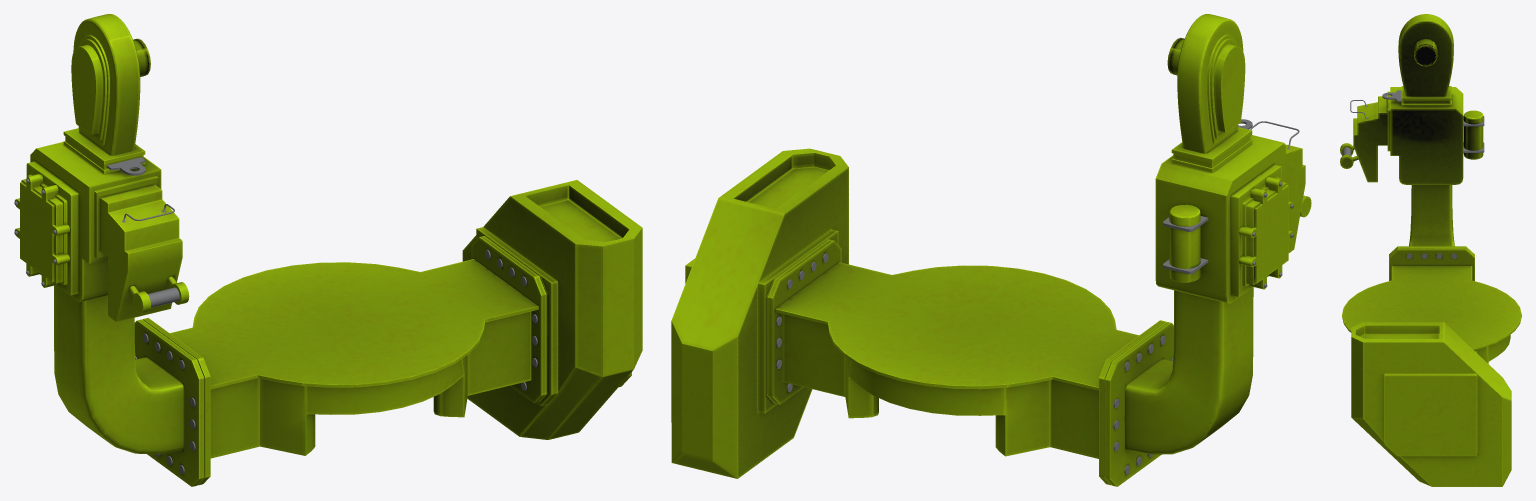
3 views of the same model, side by side, from view 1: azimuth 30°, elevation 25°; view 2: azimuth 150°, elevation 25°; view 3: azimuth 270°, elevation 25° (orthographic). The views are drawn at different scales.
Visible parts, largest first — view 1: arm; view 2: arm; view 3: arm.
Part boxes in pixels (bbox=[...]): arm: bbox=[14, 14, 642, 486]; arm: bbox=[671, 14, 1311, 486]; arm: bbox=[1340, 14, 1521, 486].
Bounding box in the file's own units: 0.3468 × 0.3095 × 0.1574.
Materials: 2 (2 with a texture image).
